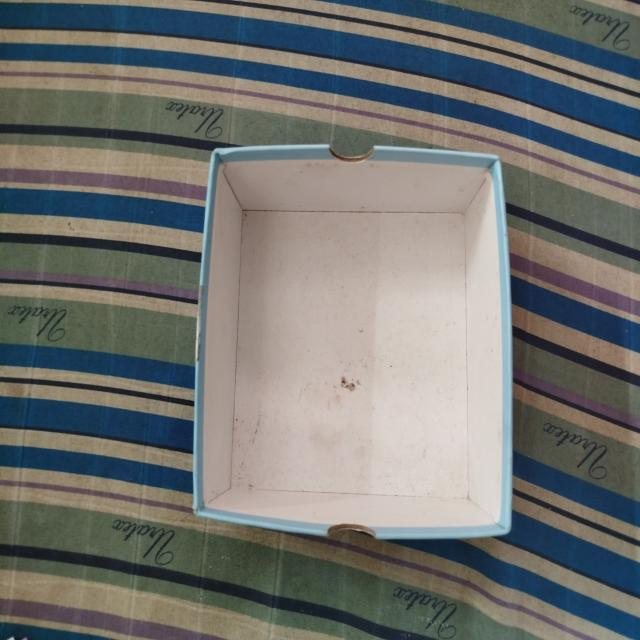paper: (192, 139, 520, 553)
